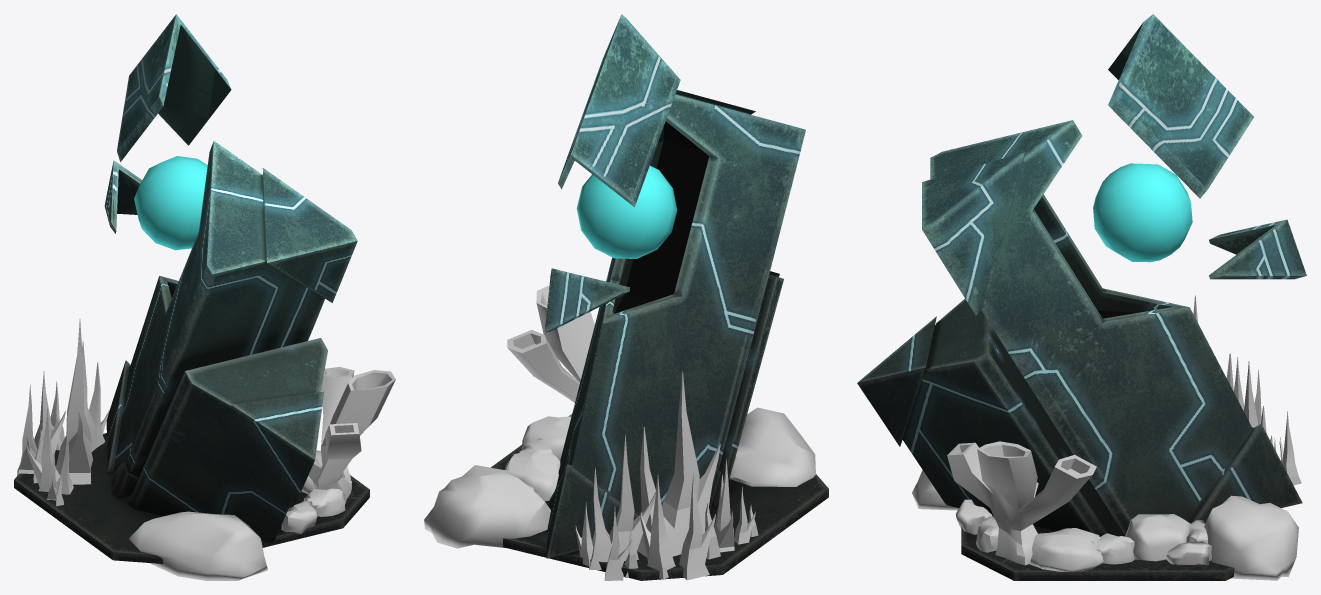
Rendered from DefendPylon.fbx.
3 renders of one model, left to right at view 1: azimuth 30°, elevation 25°; view 2: azimuth 150°, elevation 25°; view 3: azimuth 270°, elevation 25°, orthographic. The views are drawn at different scales.
Parts seen in each view (by area): view 1: Defend_Beacon, Rock22, Coral1, Grass14, Grass16, Rock23, Rock27, Grass, Grass13, Grass10; view 2: Defend_Beacon, Rock26, Rock22, Grass14, Coral1, Grass, Rock19, Grass13, Grass10, Rock21, Grass16, Grass12 (+2 smaller); view 3: Defend_Beacon, Coral1, Rock26, Rock21, Rock19, Rock24, Rock25, Rock22, Rock27, Rock23, Grass12.
Boxes of the visible parts, bbox=[...] form: Defend_Beacon: bbox=[14, 14, 369, 563]; Rock22: bbox=[129, 511, 267, 580]; Coral1: bbox=[312, 367, 395, 503]; Grass14: bbox=[56, 319, 93, 484]; Grass16: bbox=[26, 406, 73, 494]; Rock23: bbox=[303, 488, 345, 516]; Rock27: bbox=[281, 500, 317, 533]; Grass: bbox=[82, 341, 104, 451]; Grass13: bbox=[17, 384, 37, 475]; Grass10: bbox=[34, 371, 65, 456]; Defend_Beacon: bbox=[491, 14, 828, 580]; Rock26: bbox=[424, 465, 550, 548]; Rock22: bbox=[729, 407, 815, 486]; Grass14: bbox=[637, 371, 720, 557]; Coral1: bbox=[507, 286, 594, 416]; Grass: bbox=[589, 434, 655, 569]; Rock19: bbox=[504, 450, 560, 501]; Grass13: bbox=[679, 472, 715, 580]; Grass10: bbox=[640, 474, 675, 579]; Rock21: bbox=[522, 416, 571, 460]; Grass16: bbox=[713, 458, 734, 552]; Grass12: bbox=[604, 506, 631, 580]; Defend_Beacon: bbox=[857, 14, 1306, 580]; Coral1: bbox=[947, 441, 1096, 565]; Rock26: bbox=[1204, 495, 1298, 580]; Rock21: bbox=[1029, 528, 1103, 571]; Rock19: bbox=[1125, 514, 1191, 561]; Rock24: bbox=[1091, 533, 1134, 564]; Rock25: bbox=[1165, 541, 1211, 565]; Rock22: bbox=[912, 470, 958, 510]; Rock27: bbox=[955, 499, 992, 534]; Rock23: bbox=[976, 516, 998, 552]; Grass12: bbox=[1279, 411, 1301, 485].
Bounding box in the file's own units: 35.18 × 58.65 × 46.56.
